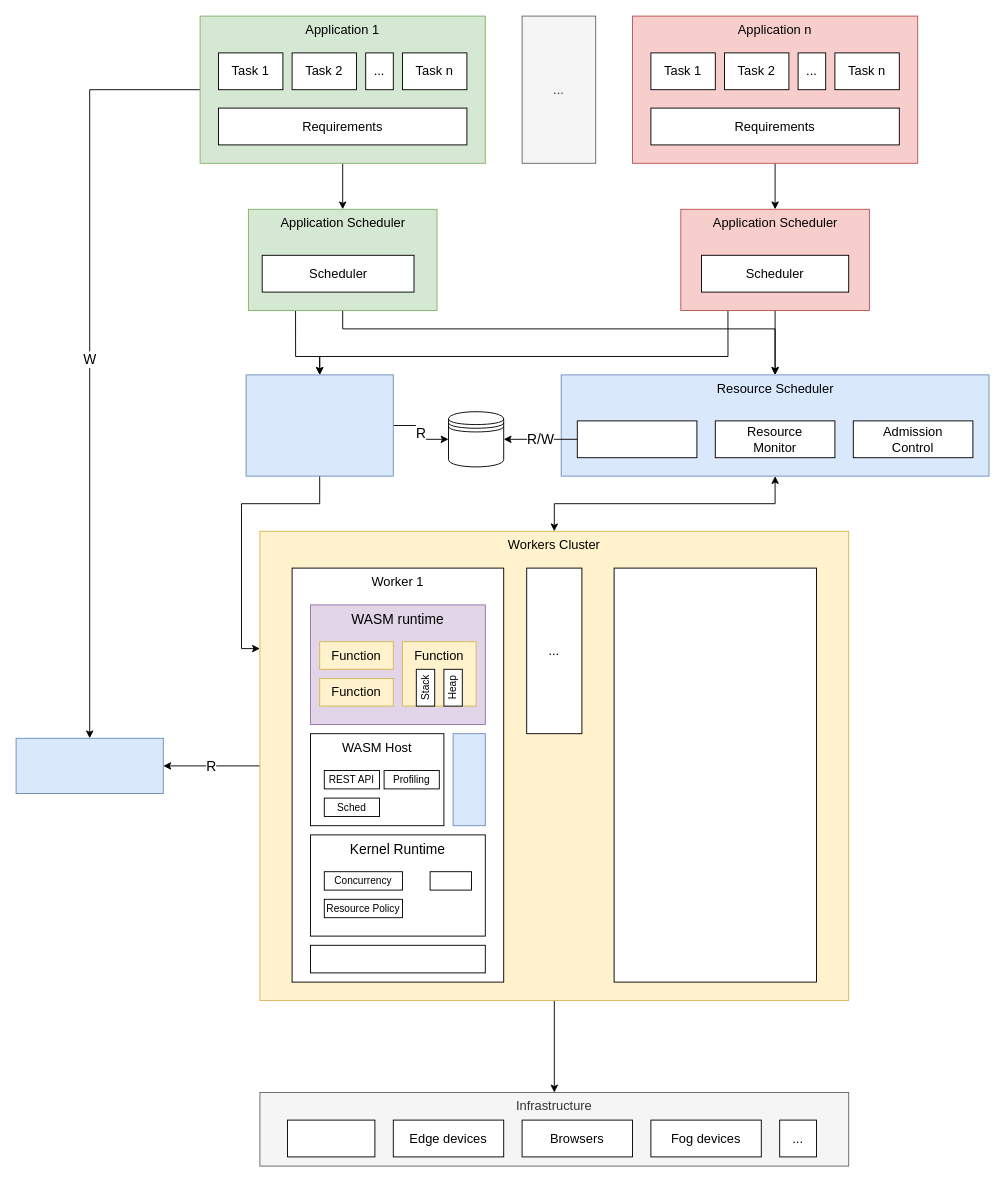
Image size: 1006x1182. Some labels were removed from this diagram. Here are the shapes that lost their labels. From the top down, the centre of each, then its label:
At (x=319, y=425): "Gateway".
At (x=636, y=439): "Registry".
At (x=89, y=765): "Functions repository".
At (x=468, y=779): "Worker Agent".
At (x=714, y=774): "Worker n".
At (x=450, y=880): "I/O".
At (x=397, y=958): "Hardware".
At (x=331, y=1138): "Cloud".
